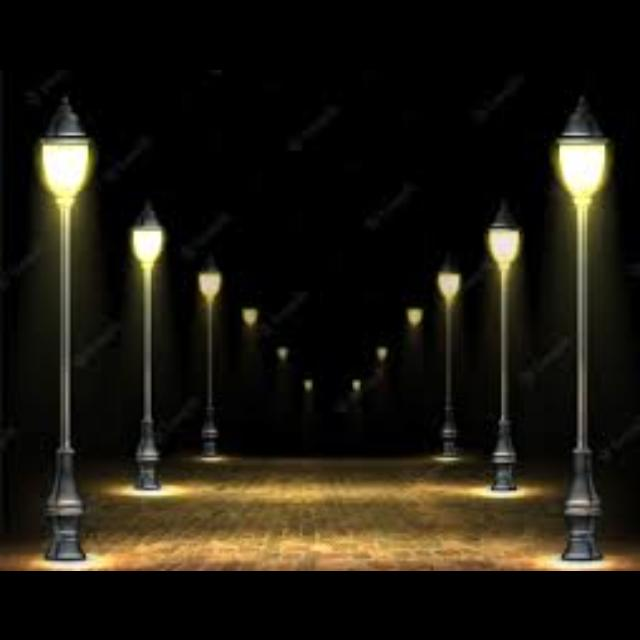Street-Lamp: (18, 84, 118, 570)
